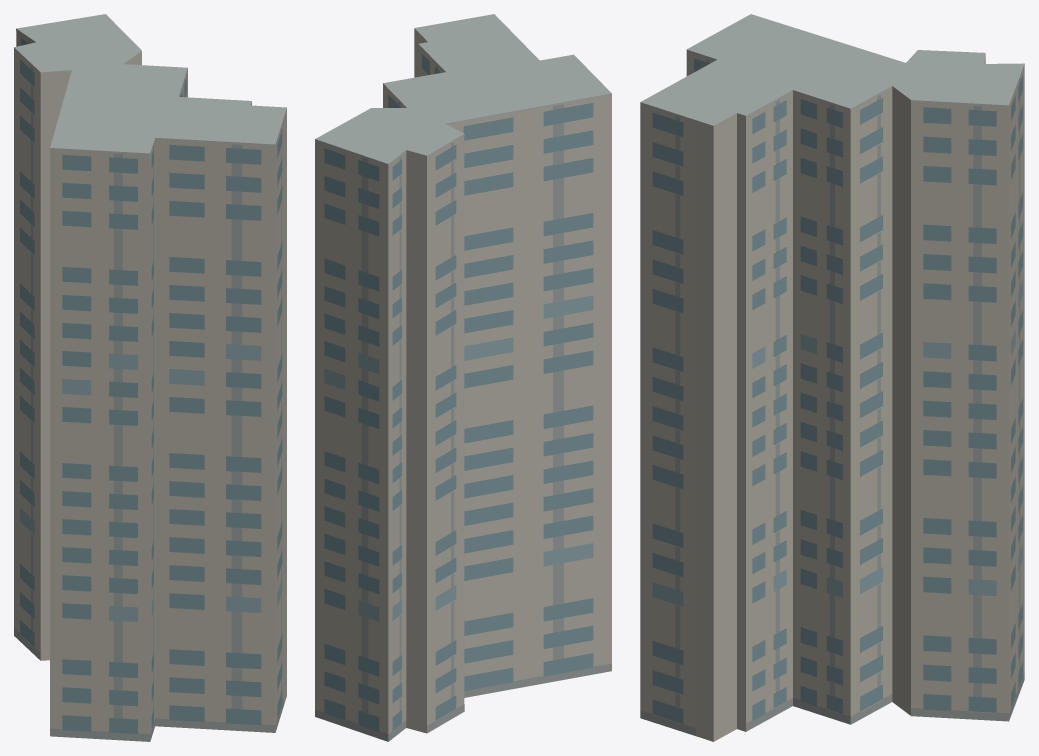
Rendered from residential-e2a0e78f-dad1-47f7-8c54-0d6fb0d211ad.glb.
The picture shows the model from 3 angles, left to right: view 1: azimuth 30°, elevation 25°; view 2: azimuth 150°, elevation 25°; view 3: azimuth 270°, elevation 25°; orthographic projection. The views are drawn at different scales.
Visible parts, largest first — view 1: residential-e2a0e78f-dad1-47f7-8c54-0d6fb0d211ad.tmp; view 2: residential-e2a0e78f-dad1-47f7-8c54-0d6fb0d211ad.tmp; view 3: residential-e2a0e78f-dad1-47f7-8c54-0d6fb0d211ad.tmp.
Part boxes in pixels (x1,y1,x2,y2): residential-e2a0e78f-dad1-47f7-8c54-0d6fb0d211ad.tmp: (14,14,286,741); residential-e2a0e78f-dad1-47f7-8c54-0d6fb0d211ad.tmp: (315,14,611,741); residential-e2a0e78f-dad1-47f7-8c54-0d6fb0d211ad.tmp: (640,14,1024,741).
Bounding box in the file's own units: 24.95 × 64.05 × 36.23.
